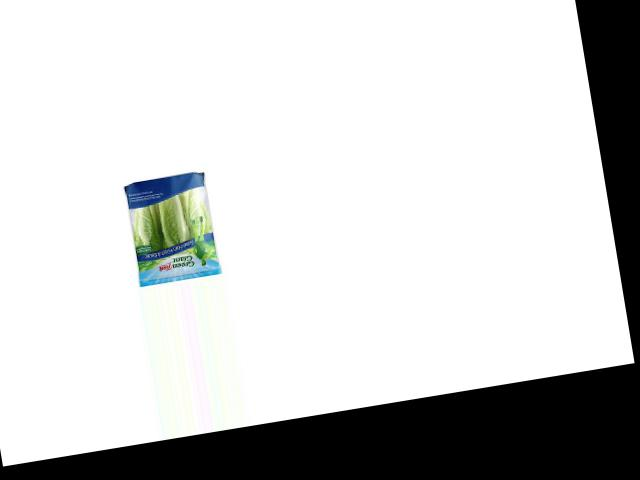lettuce: (121, 165, 223, 282)
